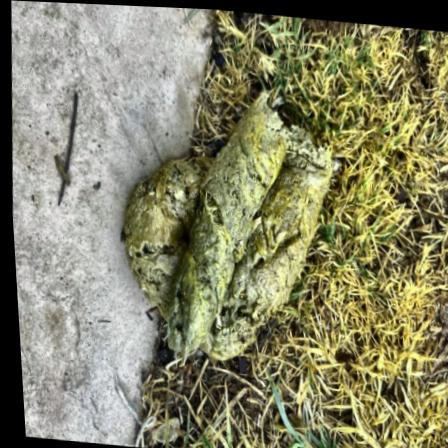dog-poop: (92, 87, 345, 380)
